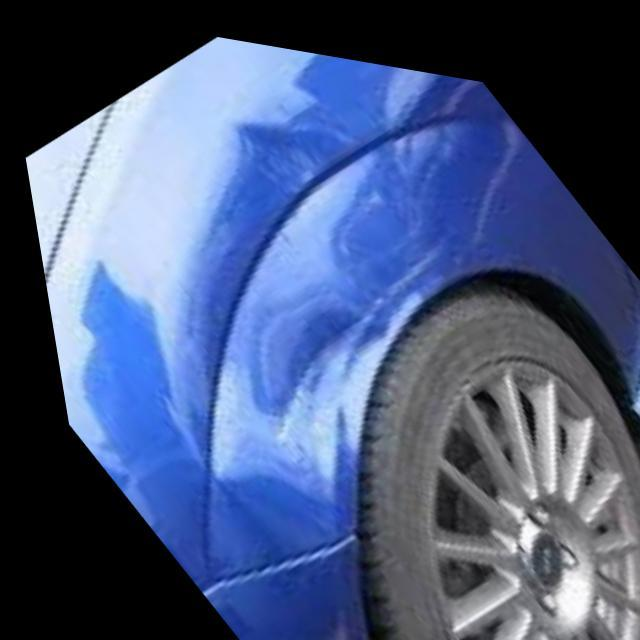dent: (248, 204, 458, 463), (221, 97, 329, 206)
